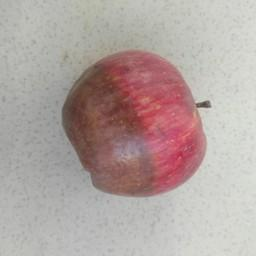Bad_apple: (60, 44, 208, 204)
